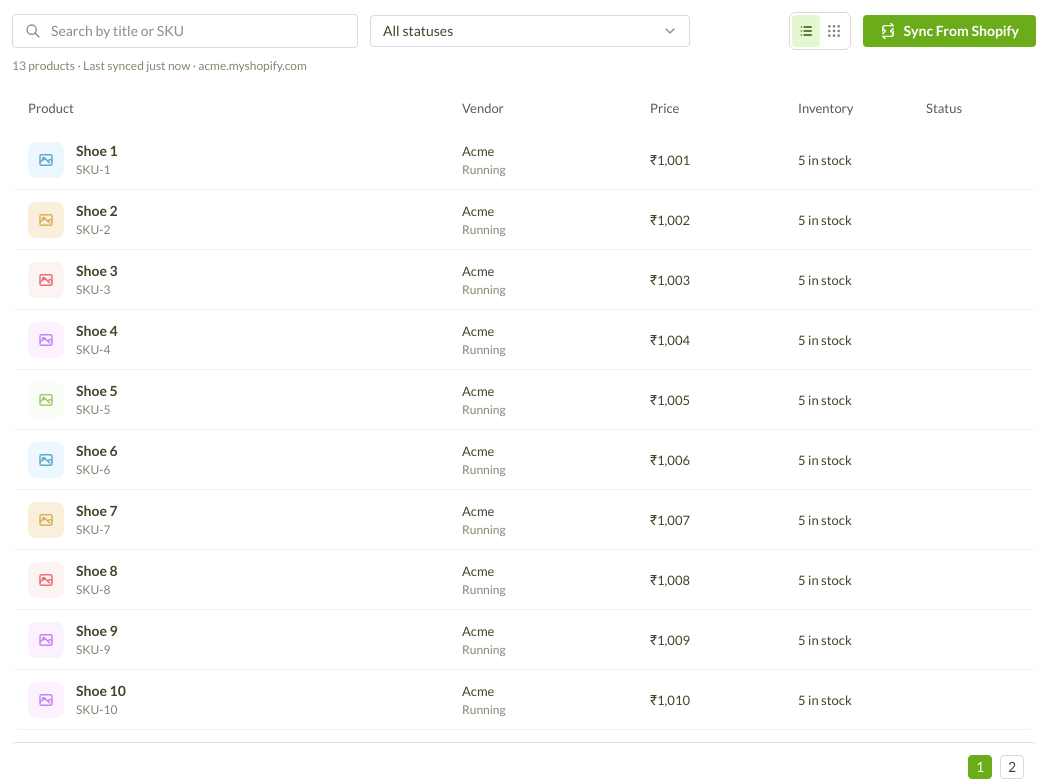
Test case: CatalogTable › filters by status
Step 1. Select "Draft" in the dropdown named "Filter by status" → (530, 31), box [370,15,690,47]
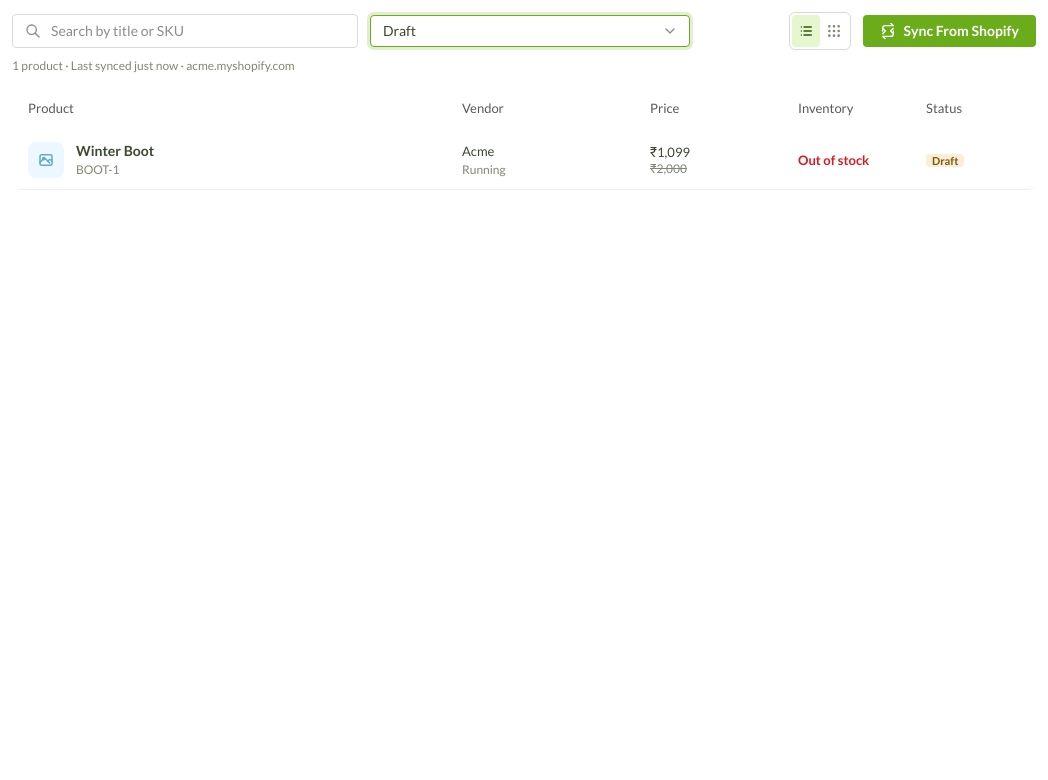
Result: the row that starts with "Winter Boot" shows "Draft" at [932,154,958,166]
Result: the row that starts with "Winter Boot" shows "Out of stock" at [798,152,869,168]
Result: the row that starts with "Winter Boot" shows "₹2,000" at [650,160,687,176]
